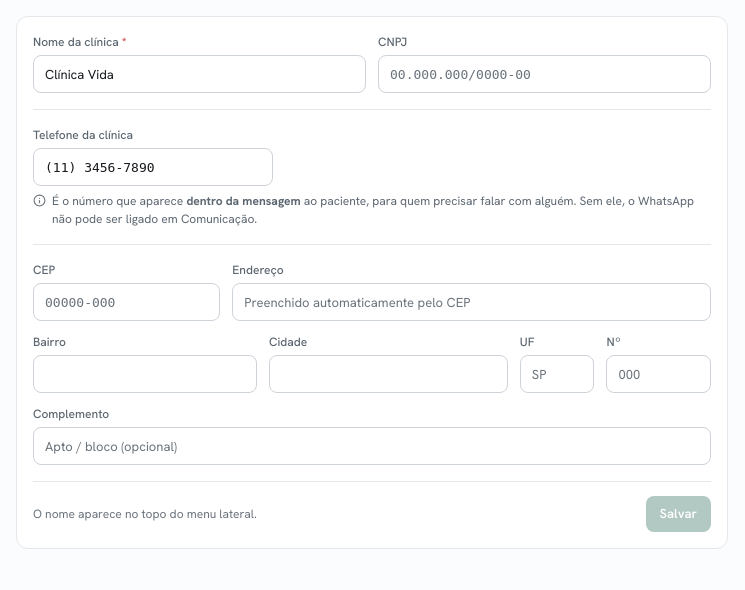
Test case: endereço e telefone atravessam o POST › apagar o telefone com o WhatsApp ligado bloqueia o Salvar e explica a causa
The width and height of the screenshot is (745, 590).
Clear the field labelled "Telefone da clínica" at {"x": 153, "y": 167}, box left=33, top=148, right=273, bottom=186
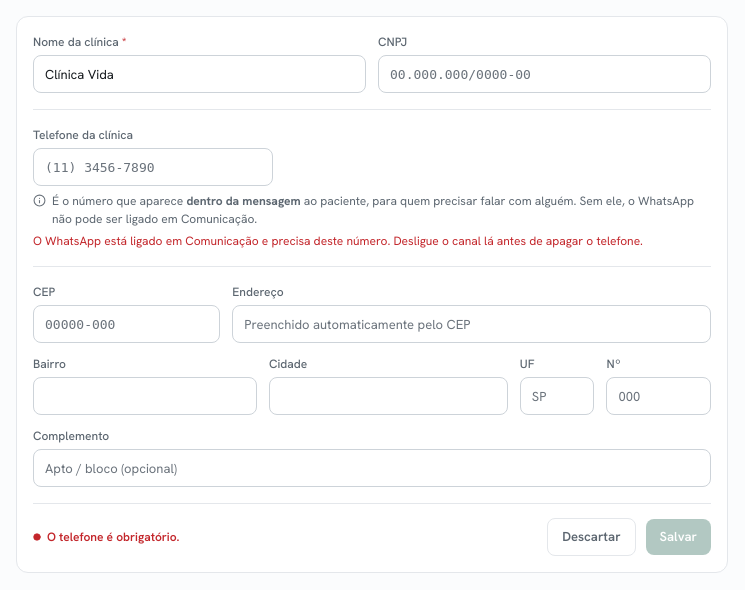
Check: the button "Salvar" is disabled, box left=646, top=519, right=711, bottom=554
Check: the text "Desligue o canal lá antes de apagar o telefone" is shown, box left=33, top=233, right=643, bottom=249
